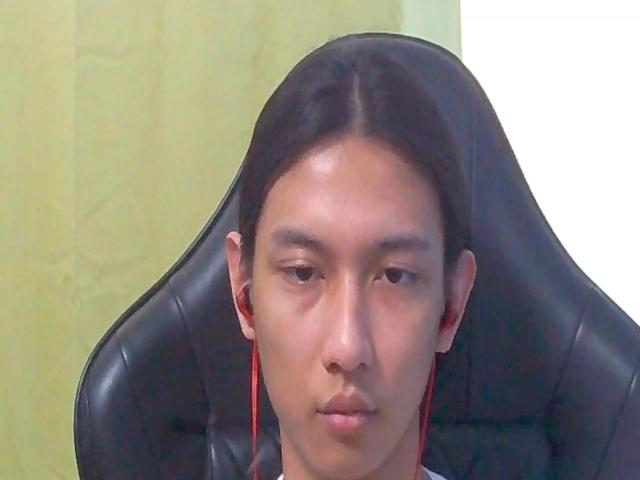eye_open: (370, 256, 425, 300), (276, 256, 334, 297)
face: (265, 186, 436, 480)
